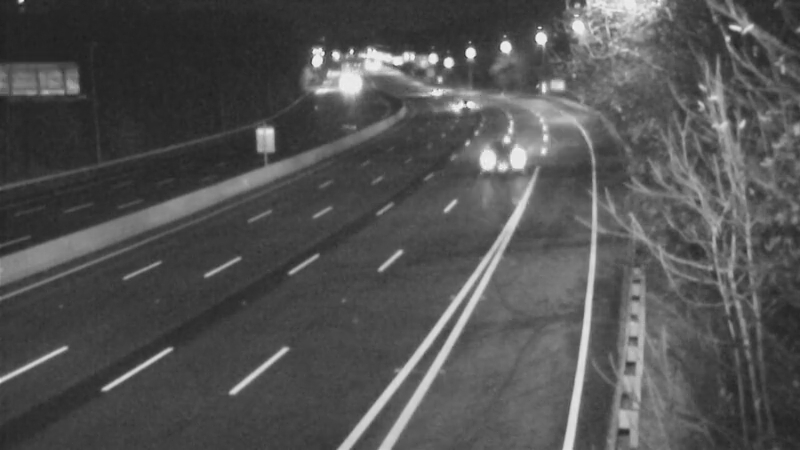vehicle: (409, 66, 459, 116), (436, 80, 486, 130), (473, 120, 523, 170), (320, 60, 370, 110)
